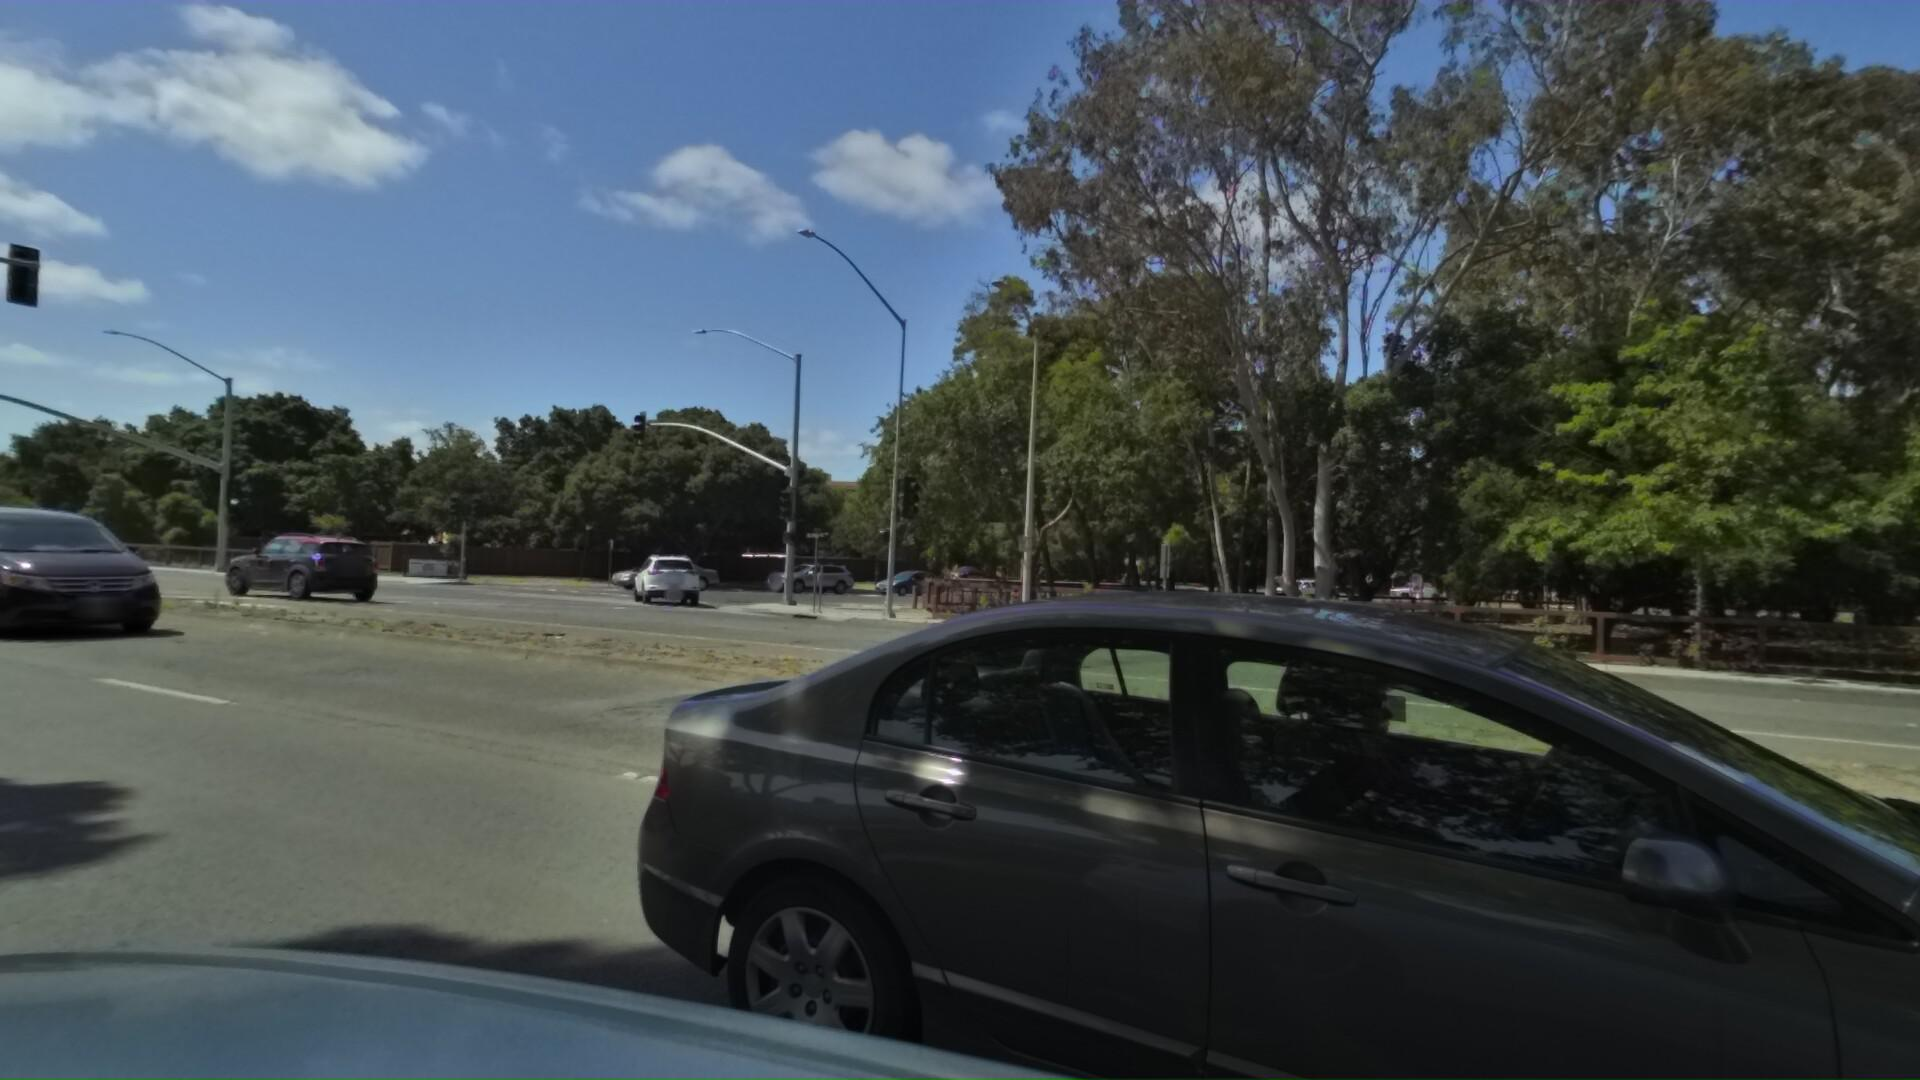car: (604, 553, 1920, 1080), (0, 498, 189, 650), (198, 520, 371, 607), (589, 556, 717, 596), (746, 559, 849, 600), (621, 554, 695, 611), (856, 566, 943, 596), (1254, 579, 1319, 604)
